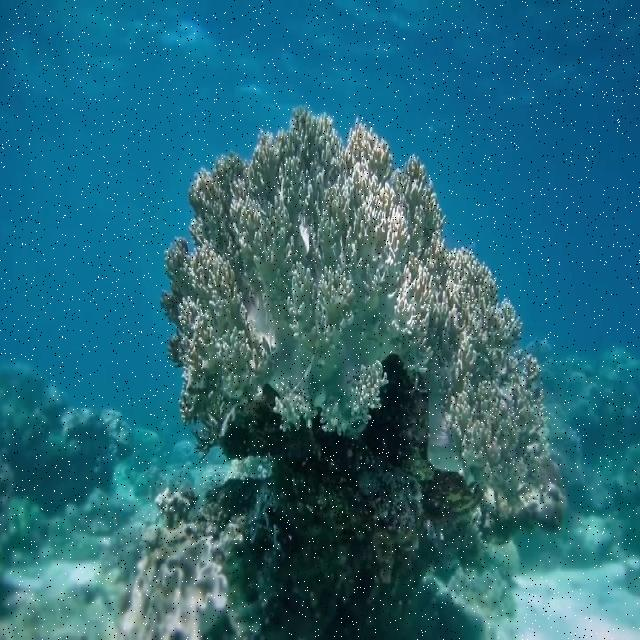reefs: (160, 107, 567, 544), (121, 487, 230, 639)
sea-floor: (207, 359, 480, 638)
